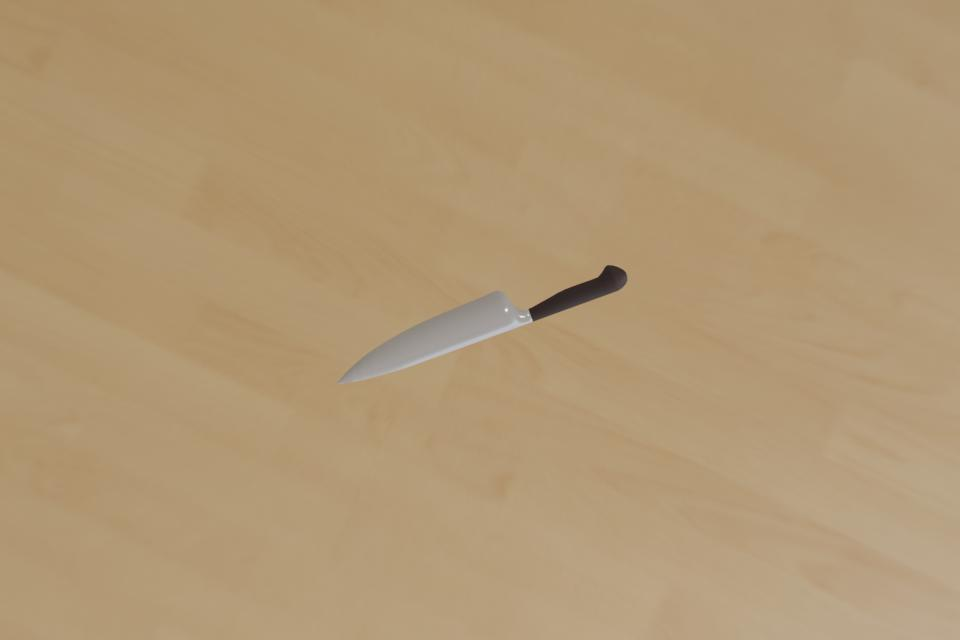knife: (337, 267, 629, 386)
